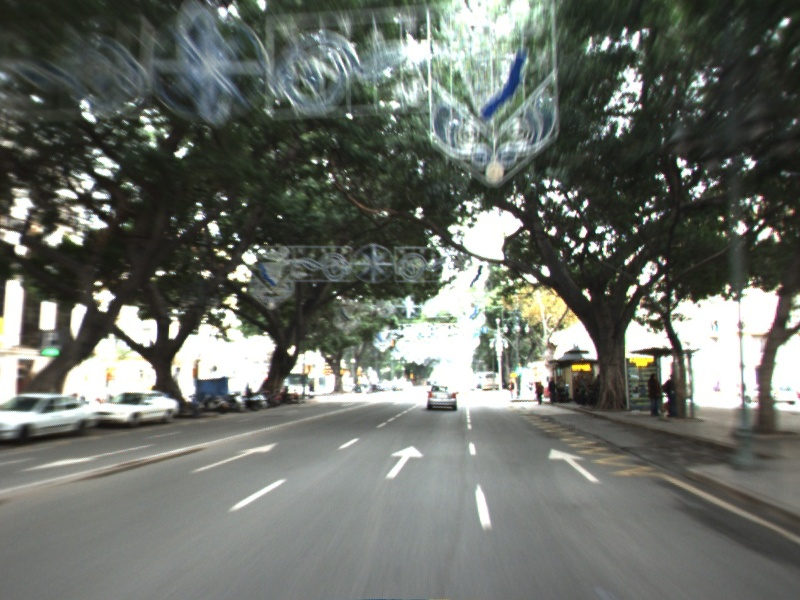STRAIGHT: (186, 440, 281, 475), (546, 446, 603, 485), (382, 444, 426, 481)
